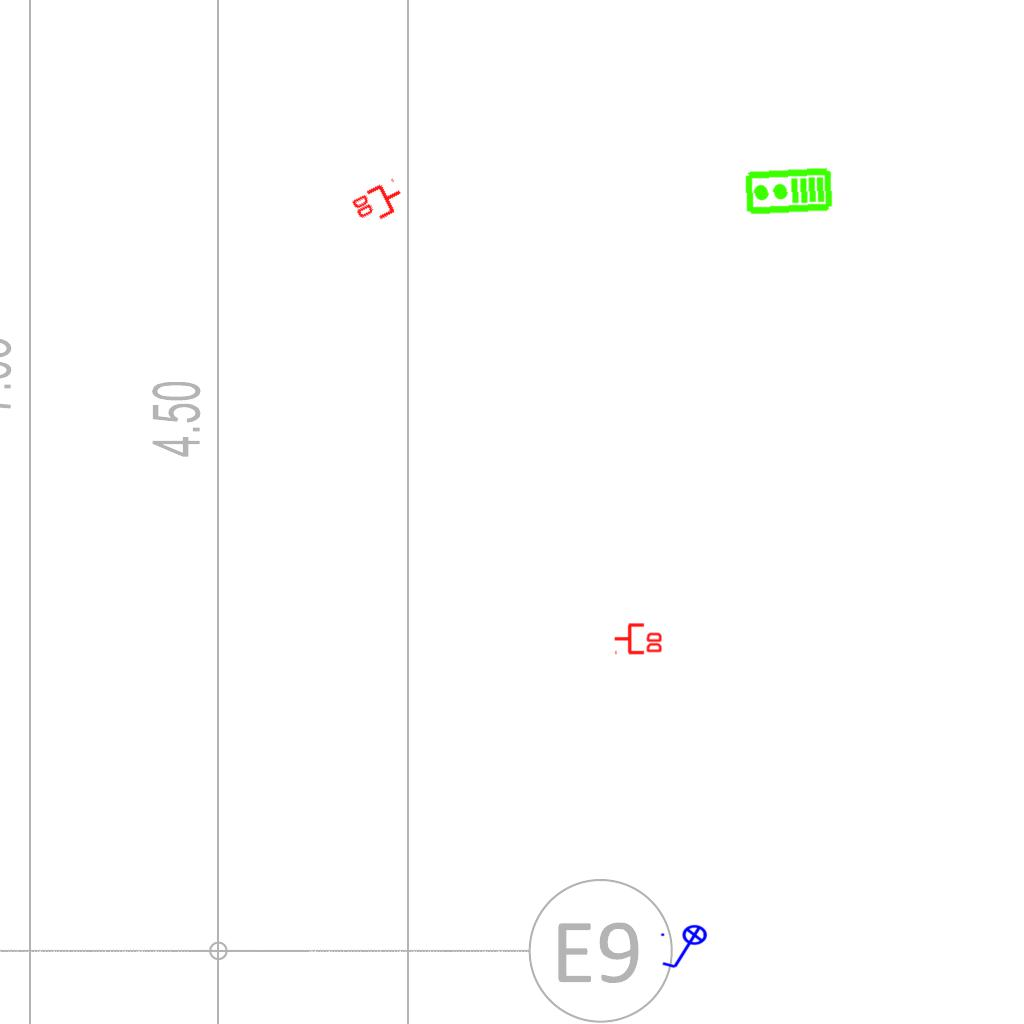Ausschalter_beleuchtet: (658, 924, 714, 972)
Datenanschluss_zweifach: (348, 176, 410, 231), (613, 621, 664, 655)
Gegensprechanlage_mit_Video: (743, 166, 834, 218)
